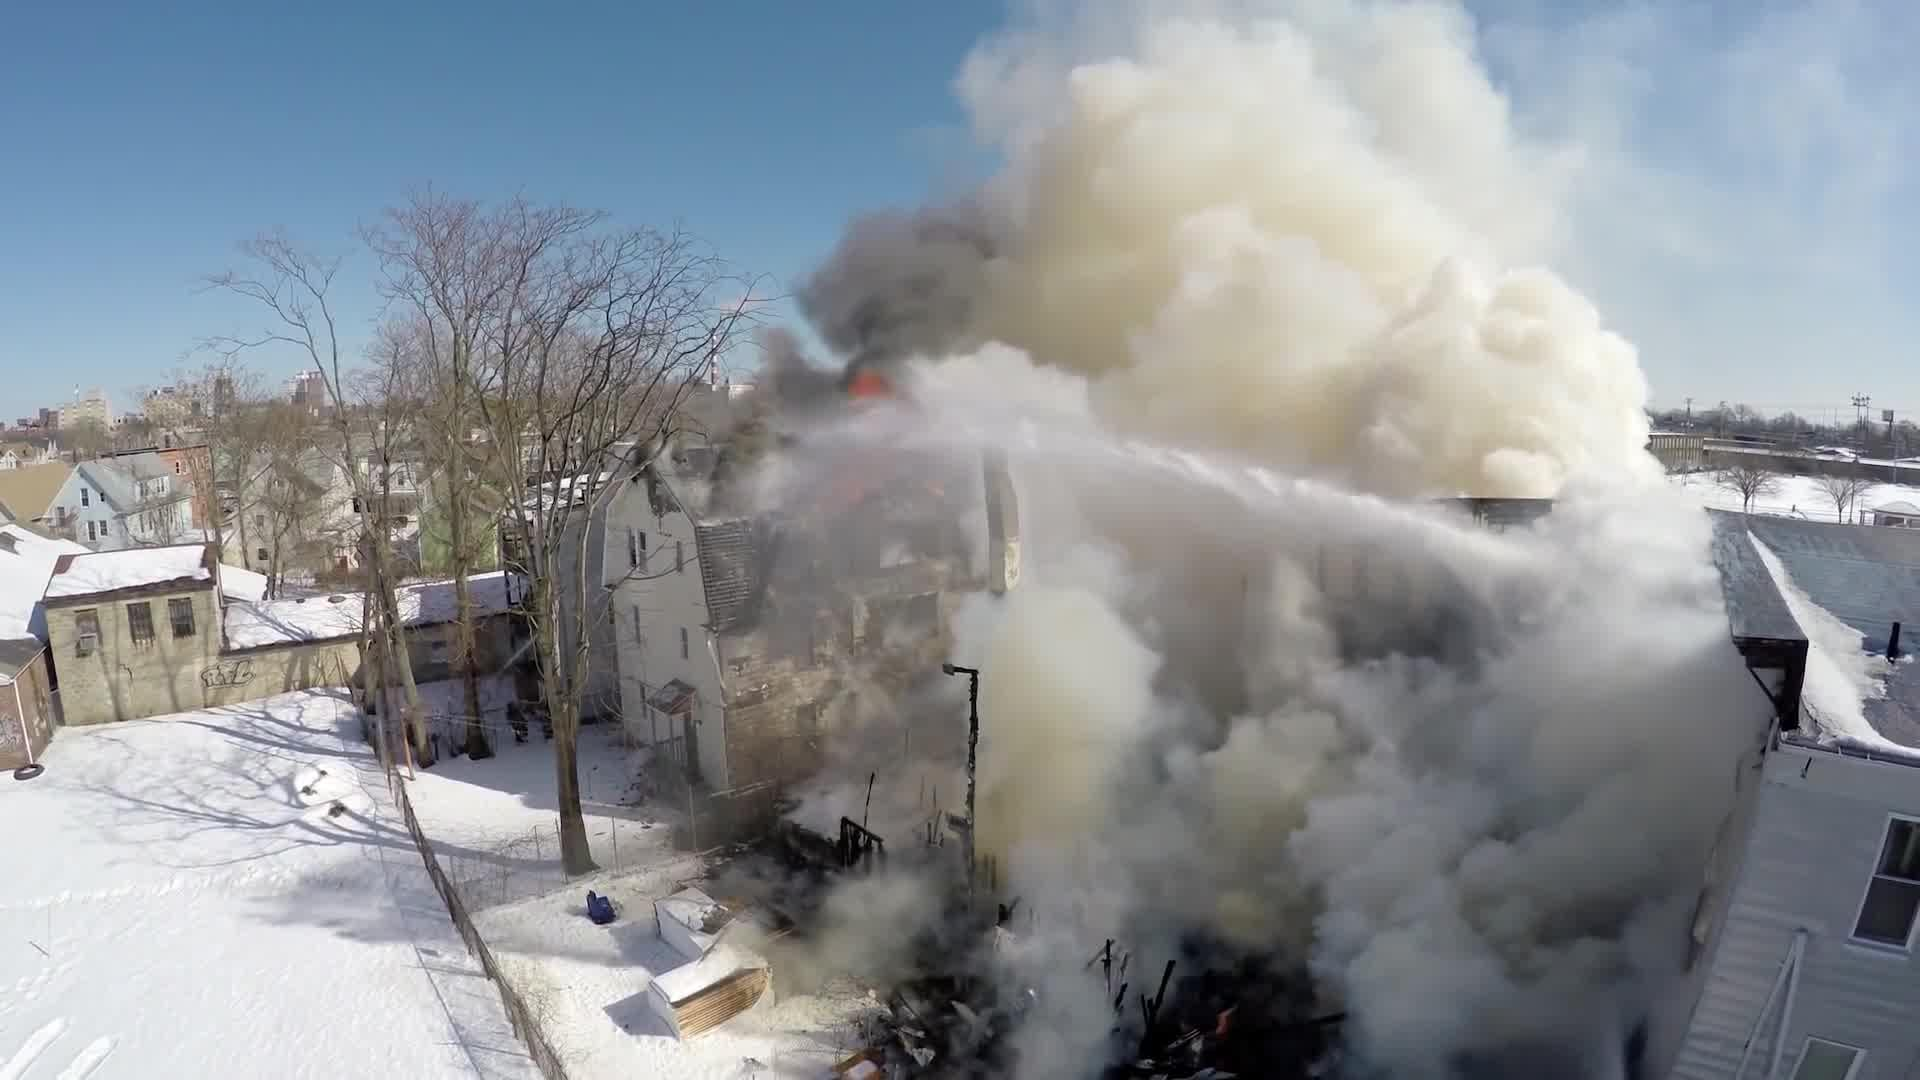smoke: (994, 0, 1524, 994), (1540, 537, 1723, 979)
